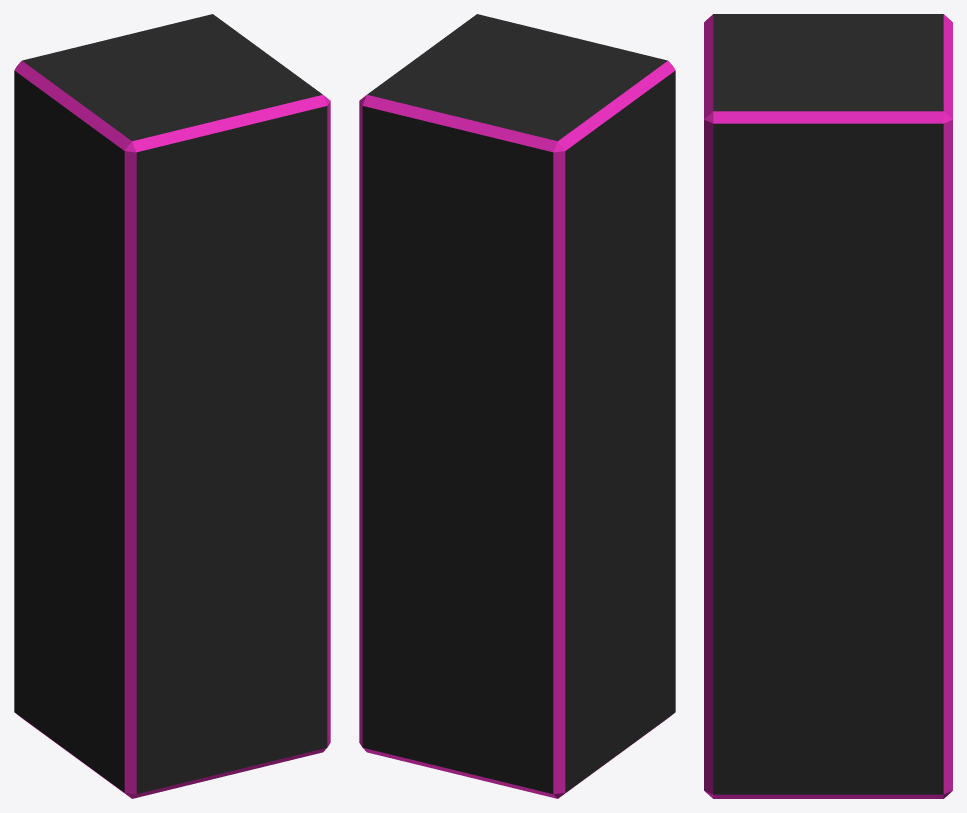
Rendered from MainWallBlock.fbx.
The picture shows the model from 3 angles, left to right: view 1: azimuth 30°, elevation 25°; view 2: azimuth 150°, elevation 25°; view 3: azimuth 270°, elevation 25°; orthographic projection. The views are drawn at different scales.
Parts seen in each view (by area): view 1: Cube.001; view 2: Cube.001; view 3: Cube.001.
Part boxes in pixels (x1=…): Cube.001: x1=14, y1=14, x2=330, y2=798; Cube.001: x1=359, y1=14, x2=675, y2=798; Cube.001: x1=704, y1=14, x2=952, y2=798.
Size of the model in its own units: 2 by 6.1 by 2.
